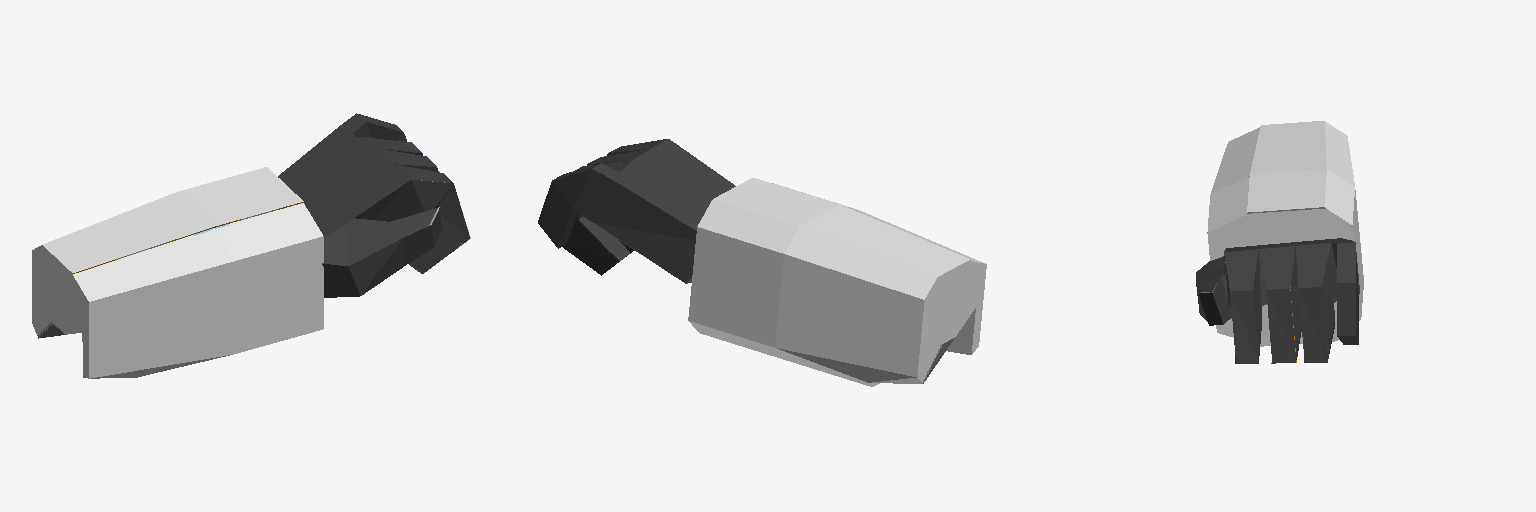
The picture shows the model from 3 angles: view 1: azimuth 30°, elevation 25°; view 2: azimuth 150°, elevation 25°; view 3: azimuth 270°, elevation 25°; orthographic projection.
Parts seen in each view (by area): view 1: group5_group4_pTorus5; view 2: group5_group4_pTorus5; view 3: group5_group4_pTorus5.
Part boxes in pixels (x1,y1,x2,y2): group5_group4_pTorus5: (32,113,470,378); group5_group4_pTorus5: (538,139,986,386); group5_group4_pTorus5: (1196,121,1363,363).
Bounding box in the file's own units: 1.89 × 0.7615 × 0.7138.
2 materials, 1 textured.